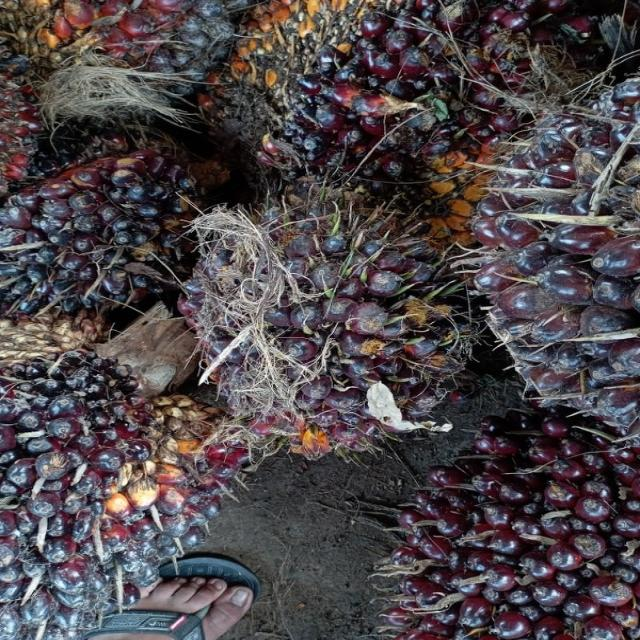fraksi 00: (177, 197, 472, 451), (237, 0, 545, 206), (0, 148, 267, 332)
fraksi 1: (385, 418, 640, 640)
